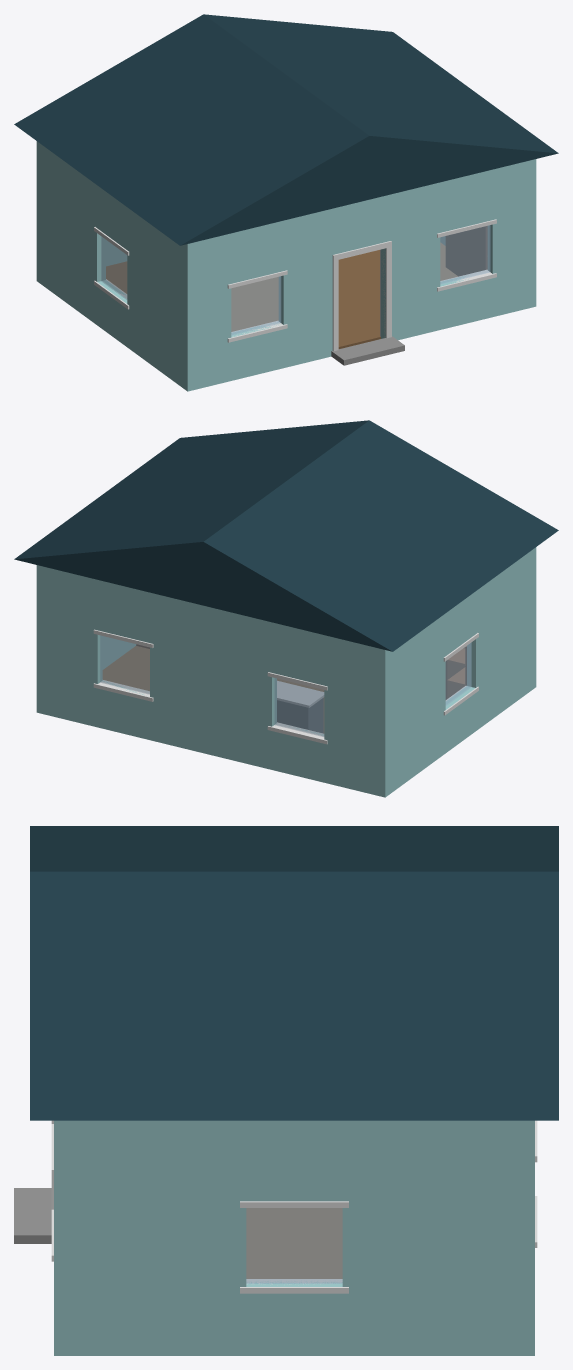
The model's file is shop.glb.
The picture shows the model from 3 angles, top to bottom: view 1: azimuth 30°, elevation 25°; view 2: azimuth 150°, elevation 25°; view 3: azimuth 270°, elevation 25°; orthographic projection. The views are drawn at different scales.
Visible parts, largest first — view 1: shop-roof, shop-walls, glass_1, glass_0, shop-furniture, glass_5; view 2: shop-roof, shop-walls, shop-furniture, glass_2, glass_3, glass_5; view 3: shop-roof, shop-walls, glass_4.
Boxes of the visible parts, left/top/right/bottom form: shop-roof: left=14, top=14, right=558, bottom=245; shop-walls: left=36, top=141, right=536, bottom=391; glass_1: left=440, top=225, right=490, bottom=284; glass_0: left=231, top=276, right=281, bottom=335; shop-furniture: left=445, top=226, right=487, bottom=276; glass_5: left=101, top=236, right=127, bottom=299; shop-roof: left=14, top=420, right=558, bottom=651; shop-walls: left=36, top=547, right=536, bottom=797; shop-furniture: left=136, top=644, right=466, bottom=733; glass_2: left=274, top=678, right=324, bottom=736; glass_3: left=100, top=635, right=149, bottom=694; glass_5: left=445, top=642, right=471, bottom=705; shop-roof: left=30, top=826, right=558, bottom=1120; shop-walls: left=14, top=1120, right=537, bottom=1355; glass_4: left=246, top=1208, right=342, bottom=1283.
Bounding box in the file's own units: 8.7 × 4.8 × 6.8.
